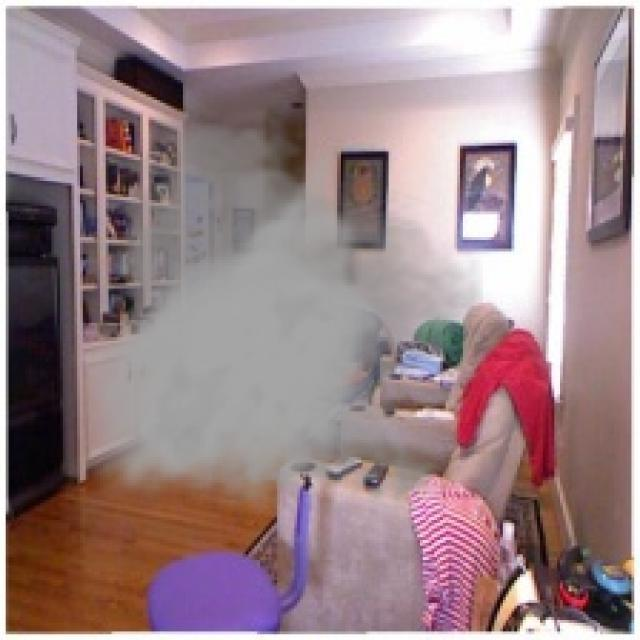Smoke: (68, 117, 483, 514)
